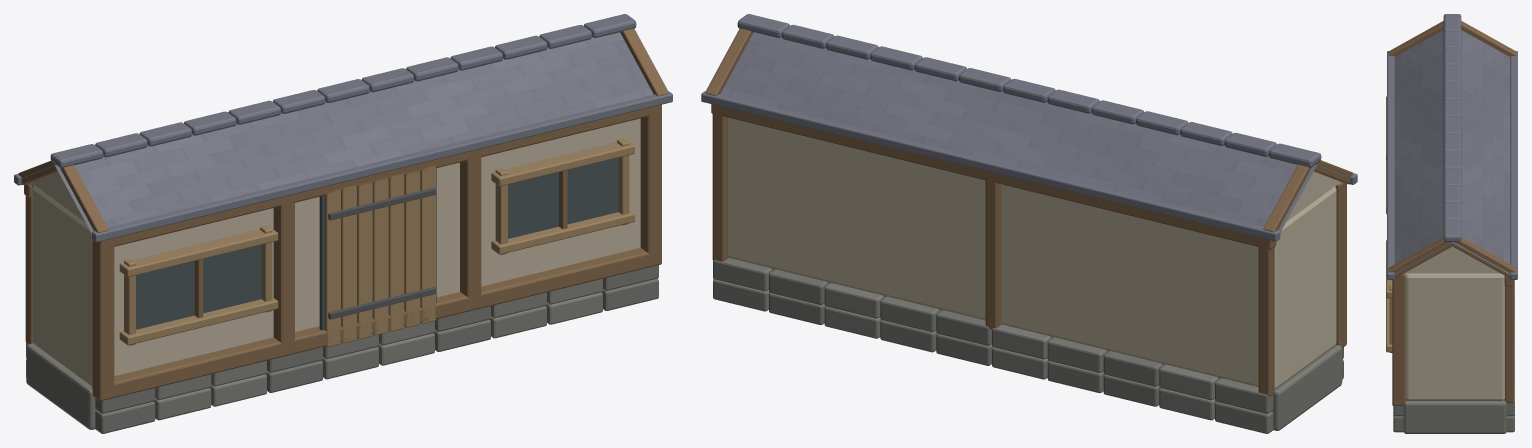
File: c01_n3_lower_gallery.glb
3 views of the same model, side by side, from view 1: azimuth 30°, elevation 25°; view 2: azimuth 150°, elevation 25°; view 3: azimuth 270°, elevation 25° (orthographic). The views are drawn at different scales.
Visible parts, largest first — view 1: Walls, Roof; view 2: Walls, Roof; view 3: Roof, Walls.
Part boxes in pixels (x1=…): Walls: x1=18, y1=28, x2=668, y2=433; Roof: x1=14, y1=14, x2=672, y2=242; Walls: x1=705, y1=28, x2=1353, y2=433; Roof: x1=701, y1=14, x2=1357, y2=241; Roof: x1=1387, y1=14, x2=1517, y2=279; Walls: x1=1386, y1=21, x2=1516, y2=433.
Bounding box in the file's own units: 3.9 × 1.63 × 0.9725.
1 material, 1 textured.
